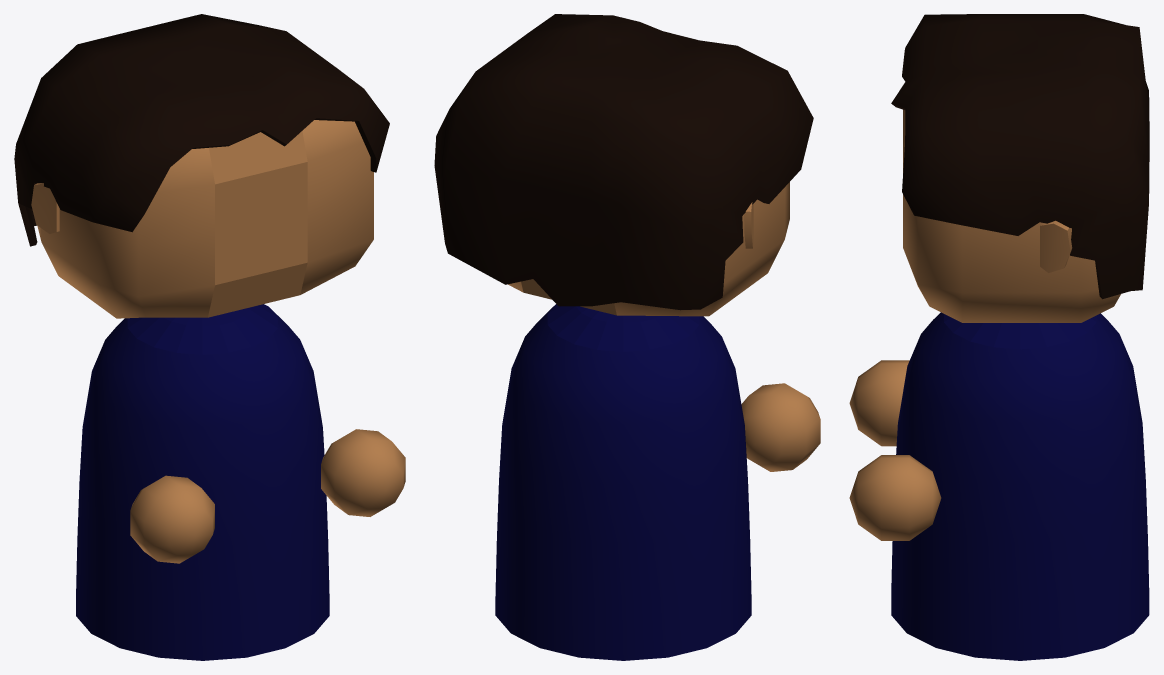
Rendered from Empleado_low.fbx.
3 views of the same model, side by side, from view 1: azimuth 30°, elevation 25°; view 2: azimuth 150°, elevation 25°; view 3: azimuth 270°, elevation 25° (orthographic).
Parts seen in each view (by area): view 1: Cylinder001, Plane001, Box001, Sphere002, Sphere001, Oreja L; view 2: Plane001, Cylinder001, Sphere002, Box001; view 3: Cylinder001, Plane001, Box001, Sphere001, Sphere002, Oreja R.
Part boxes in pixels (box(x1,y1,x2,y2)): Cylinder001: box(76, 304, 329, 660); Plane001: box(14, 14, 389, 246); Box001: box(37, 120, 373, 318); Sphere002: box(130, 475, 214, 563); Sphere001: box(321, 429, 405, 516); Oreja L: box(31, 183, 59, 233); Plane001: box(434, 14, 813, 310); Cylinder001: box(495, 304, 751, 660); Sphere002: box(741, 383, 820, 471); Box001: box(508, 182, 789, 316); Cylinder001: box(891, 312, 1149, 660); Plane001: box(891, 14, 1149, 299); Box001: box(903, 109, 1120, 322); Sphere001: box(849, 455, 941, 540); Sphere002: box(849, 360, 909, 446); Oreja R: box(1040, 220, 1072, 272).
Bounding box in the file's own units: 0.0487 × 0.0414 × 0.0846.
